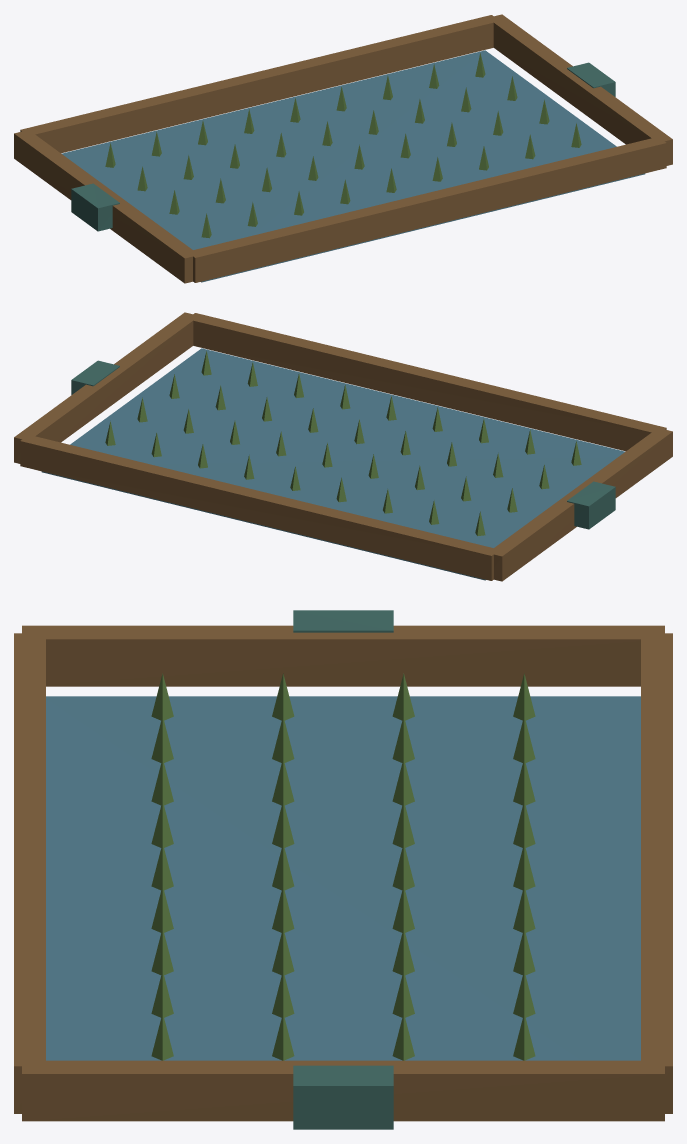
The model's file is Rice-Paddy.glb.
3 renders of one model, top to bottom at view 1: azimuth 30°, elevation 25°; view 2: azimuth 150°, elevation 25°; view 3: azimuth 270°, elevation 25°, orthographic. The views are drawn at different scales.
Visible parts, largest first — view 1: wind-pump-static-rice-paddy-water-mat, wind-pump-static-rice-paddy-earth-mat, wind-pump-static-rice-paddy-shoot-mat, wind-pump-static-rice-paddy-gate-mat; view 2: wind-pump-static-rice-paddy-water-mat, wind-pump-static-rice-paddy-earth-mat, wind-pump-static-rice-paddy-shoot-mat, wind-pump-static-rice-paddy-gate-mat; view 3: wind-pump-static-rice-paddy-water-mat, wind-pump-static-rice-paddy-earth-mat, wind-pump-static-rice-paddy-shoot-mat, wind-pump-static-rice-paddy-gate-mat.
Boxes of the visible parts, box(x1,y1,x2,y2) form: wind-pump-static-rice-paddy-water-mat: box(62, 50, 645, 282); wind-pump-static-rice-paddy-earth-mat: box(14, 14, 672, 283); wind-pump-static-rice-paddy-shoot-mat: box(105, 53, 581, 238); wind-pump-static-rice-paddy-gate-mat: box(71, 62, 615, 231); wind-pump-static-rice-paddy-water-mat: box(41, 348, 624, 580); wind-pump-static-rice-paddy-earth-mat: box(14, 312, 672, 581); wind-pump-static-rice-paddy-shoot-mat: box(105, 351, 581, 536); wind-pump-static-rice-paddy-gate-mat: box(71, 360, 615, 529); wind-pump-static-rice-paddy-water-mat: box(46, 696, 640, 1060); wind-pump-static-rice-paddy-earth-mat: box(14, 625, 672, 1121); wind-pump-static-rice-paddy-shoot-mat: box(151, 673, 535, 1060); wind-pump-static-rice-paddy-gate-mat: box(293, 610, 393, 1129).
Bounding box in the file's own units: 2.8 × 0.1925 × 1.64.
